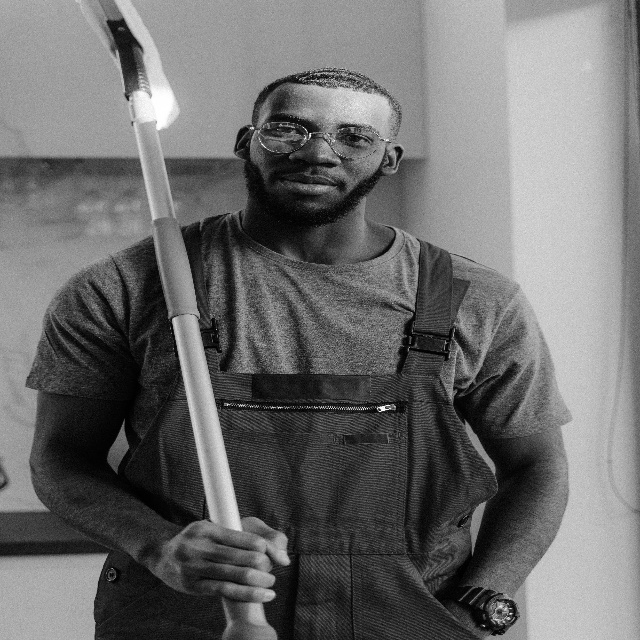Gafas: (250, 120, 393, 160)
Sin_guantes: (161, 518, 290, 603)
